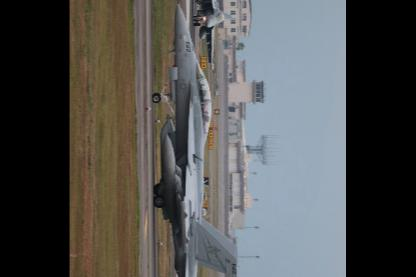F15: (153, 3, 239, 276), (193, 0, 238, 70)
